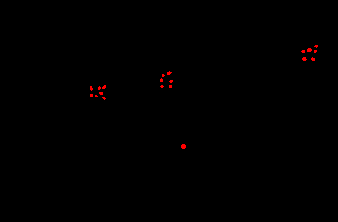Target: (181, 144, 186, 149), (307, 48, 312, 52), (302, 57, 307, 61), (167, 71, 172, 75), (311, 57, 315, 61), (102, 85, 106, 89), (90, 86, 93, 91), (314, 45, 318, 48), (301, 50, 305, 53), (160, 78, 163, 82), (169, 80, 173, 83), (160, 85, 164, 88), (98, 86, 101, 90), (99, 92, 103, 95), (102, 97, 106, 100), (314, 50, 317, 53), (162, 74, 165, 77), (169, 85, 172, 88), (90, 94, 93, 97), (95, 95, 98, 97)
